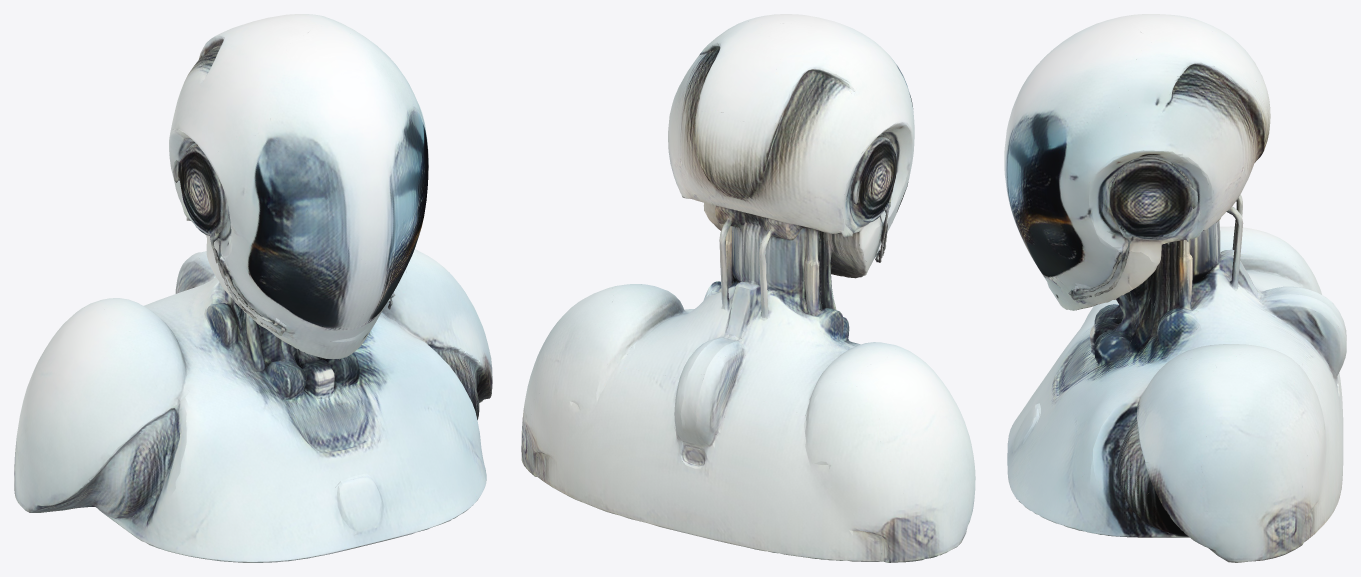
File: robot.glb
The picture shows the model from 3 angles, left to right: view 1: azimuth 30°, elevation 25°; view 2: azimuth 150°, elevation 25°; view 3: azimuth 270°, elevation 25°; orthographic projection. The views are drawn at different scales.
Parts seen in each view (by area): view 1: Mesh; view 2: Mesh; view 3: Mesh.
Part boxes in pixels (x1=…): Mesh: x1=14, y1=14, x2=492, y2=562; Mesh: x1=521, y1=14, x2=975, y2=562; Mesh: x1=1004, y1=14, x2=1346, y2=562.
Bounding box in the file's own units: 1.91 × 1.86 × 1.33.
1 material, 1 textured.
